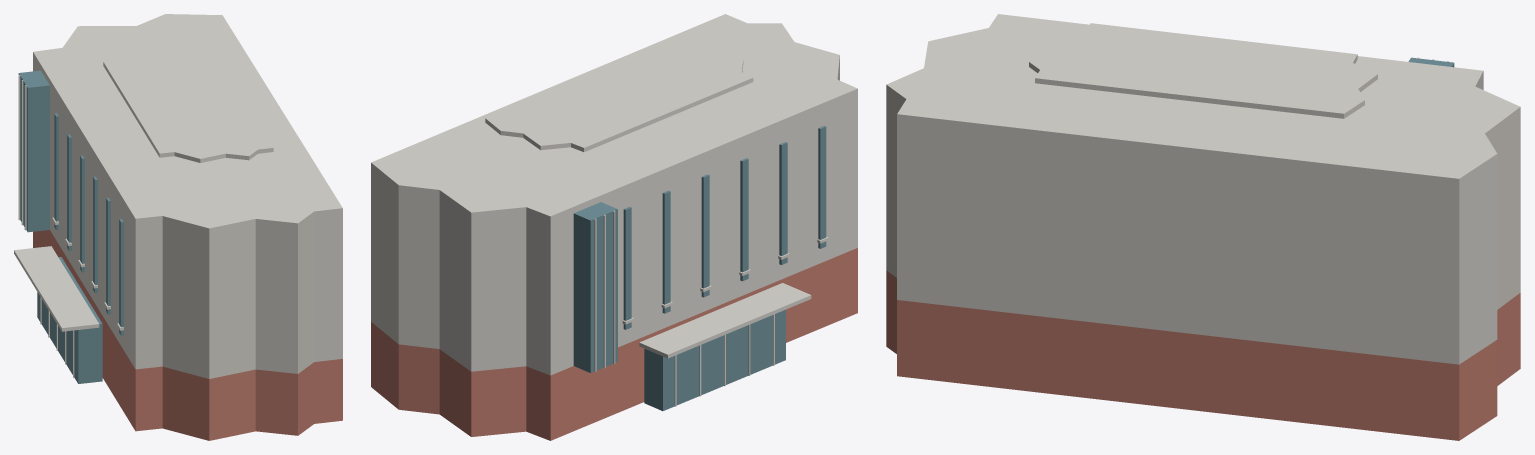
File: lui.glb
The picture shows the model from 3 angles, left to right: view 1: azimuth 30°, elevation 25°; view 2: azimuth 150°, elevation 25°; view 3: azimuth 270°, elevation 25°; orthographic projection. The views are drawn at different scales.
Parts seen in each view (by area): view 1: LCW_tower, LCW_roof_slab, LCW_podium, LCW_roof, LCW_corner_glass, LCW_canopy, LCW_atrium, LCW_band, LCW_slit_6, LCW_slit_3, LCW_slit_4, LCW_slit_5 (+5 smaller); view 2: LCW_tower, LCW_roof_slab, LCW_podium, LCW_roof, LCW_atrium, LCW_corner_glass, LCW_canopy, LCW_band, LCW_slit_4, LCW_slit_6, LCW_slit_1, LCW_slit_2 (+2 smaller); view 3: LCW_tower, LCW_podium, LCW_roof_slab, LCW_roof, LCW_band.
Part boxes in pixels (x1=…): LCW_tower: x1=33, y1=58, x2=342, y2=378; LCW_roof_slab: x1=33, y1=14, x2=342, y2=234; LCW_podium: x1=33, y1=230, x2=342, y2=440; LCW_roof: x1=103, y1=41, x2=273, y2=162; LCW_corner_glass: x1=18, y1=70, x2=49, y2=232; LCW_canopy: x1=14, y1=246, x2=99, y2=331; LCW_atrium: x1=37, y1=257, x2=102, y2=383; LCW_band: x1=50, y1=227, x2=342, y2=378; LCW_slit_6: x1=119, y1=219, x2=123, y2=335; LCW_slit_3: x1=80, y1=155, x2=84, y2=272; LCW_slit_4: x1=93, y1=176, x2=97, y2=293; LCW_slit_5: x1=106, y1=197, x2=110, y2=314; LCW_tower: x1=371, y1=62, x2=857, y2=375; LCW_roof_slab: x1=371, y1=14, x2=857, y2=222; LCW_podium: x1=371, y1=248, x2=857, y2=440; LCW_roof: x1=485, y1=36, x2=753, y2=152; LCW_atrium: x1=644, y1=309, x2=785, y2=410; LCW_corner_glass: x1=573, y1=202, x2=617, y2=372; LCW_canopy: x1=639, y1=283, x2=811, y2=358; LCW_band: x1=371, y1=244, x2=857, y2=375; LCW_slit_4: x1=740, y1=158, x2=748, y2=281; LCW_slit_6: x1=818, y1=125, x2=826, y2=248; LCW_slit_1: x1=623, y1=206, x2=631, y2=329; LCW_slit_2: x1=662, y1=190, x2=670, y2=313; LCW_tower: x1=886, y1=78, x2=1520, y2=364; LCW_podium: x1=886, y1=270, x2=1520, y2=440; LCW_roof_slab: x1=886, y1=14, x2=1520, y2=186; LCW_roof: x1=1029, y1=23, x2=1377, y2=118; LCW_band: x1=886, y1=265, x2=1520, y2=364.
Bounding box in the file's own units: 29.29 × 22.8 × 45.17.
